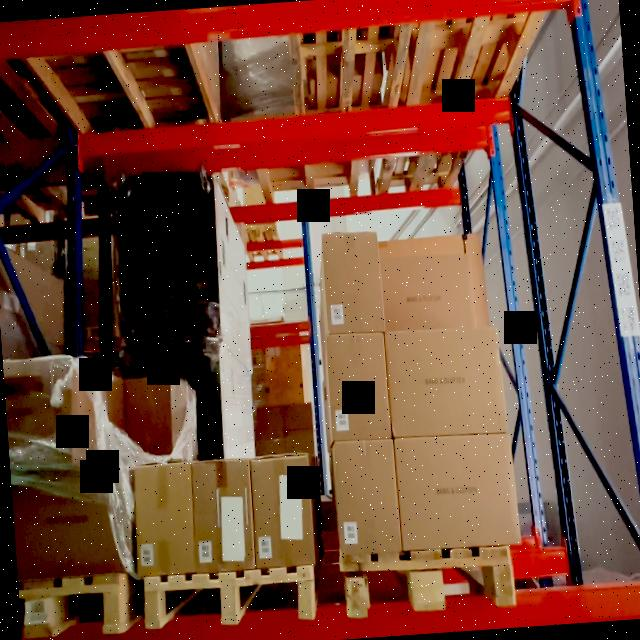box: (394, 433, 521, 550), (385, 328, 509, 440), (10, 470, 124, 578), (333, 440, 401, 555), (250, 454, 314, 568), (192, 459, 256, 573), (381, 256, 474, 331), (134, 464, 196, 575), (327, 333, 391, 440), (322, 232, 385, 334), (123, 377, 174, 459)
